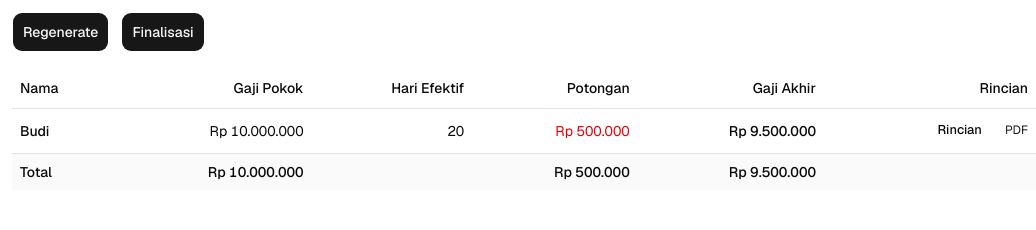
Test: PayslipTable › expands a row to show rincian_harian
Click the button with aria-label "rincian budi" at (960, 130), box [926,116,993,144]
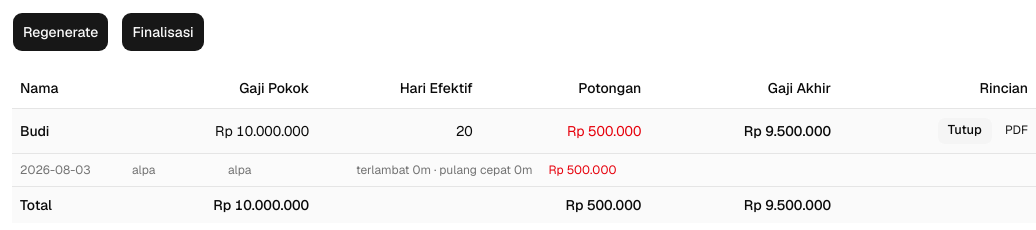
Expected: the text "2026-08-03" is shown, [20,162,90,178]
